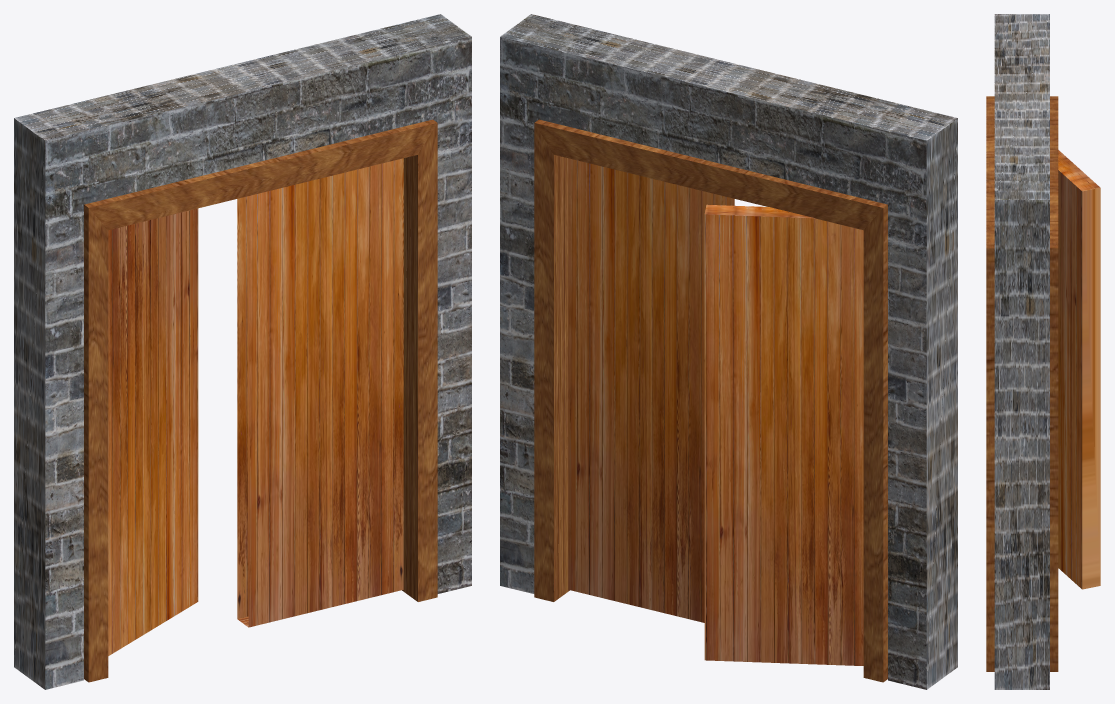
Rendered from brick_wall_door.fbx.
The picture shows the model from 3 angles, left to right: view 1: azimuth 30°, elevation 25°; view 2: azimuth 150°, elevation 25°; view 3: azimuth 270°, elevation 25°; orthographic projection. The views are drawn at different scales.
Visible parts, largest first — view 1: brick_wall.001, door.002, door_frame, door.001; view 2: brick_wall.001, door.001, door.002, door_frame; view 3: brick_wall.001, door.001, door_frame.
Boxes of the visible parts, left/top/right/bottom form: brick_wall.001: left=14, top=14, right=471, bottom=689; door.002: left=237, top=158, right=403, bottom=627; door_frame: left=84, top=119, right=437, bottom=682; door.001: left=108, top=208, right=198, bottom=655; brick_wall.001: left=500, top=14, right=957, bottom=689; door.001: left=704, top=204, right=863, bottom=665; door.002: left=568, top=158, right=734, bottom=622; door_frame: left=534, top=119, right=887, bottom=682; brick_wall.001: left=994, top=14, right=1049, bottom=689; door.001: left=1058, top=150, right=1100, bottom=589; door_frame: left=986, top=96, right=1058, bottom=671.
Size of the model in its own units: 255 by 313 by 66.22.
Materials: 3 (3 with a texture image).
